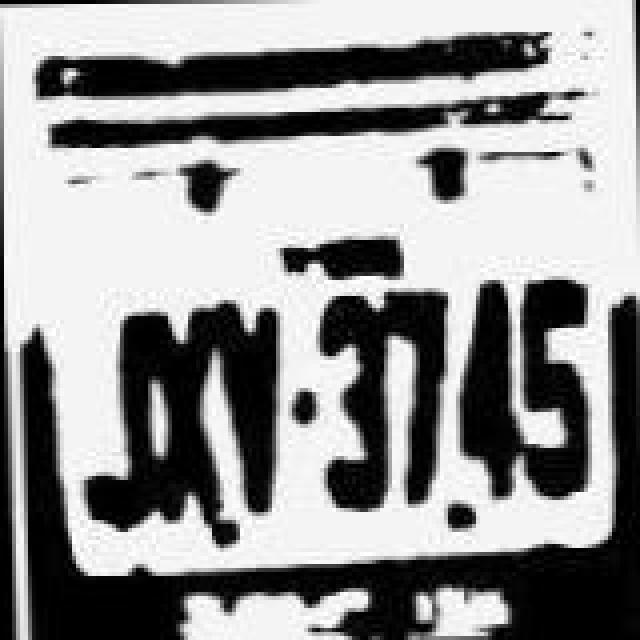3: (312, 282, 388, 518)
4: (454, 276, 526, 504)
5: (516, 274, 600, 502)
7: (386, 284, 458, 512)
J: (70, 310, 150, 538)
V: (212, 286, 288, 518)
X: (150, 296, 222, 524)
